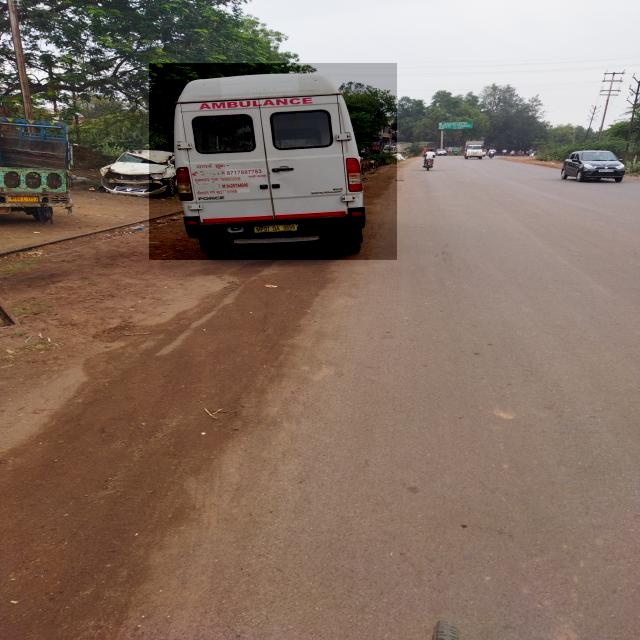Travller: (149, 63, 397, 260)
